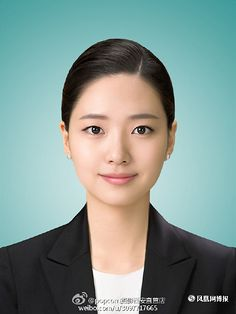unmask: (67, 94, 170, 196)
